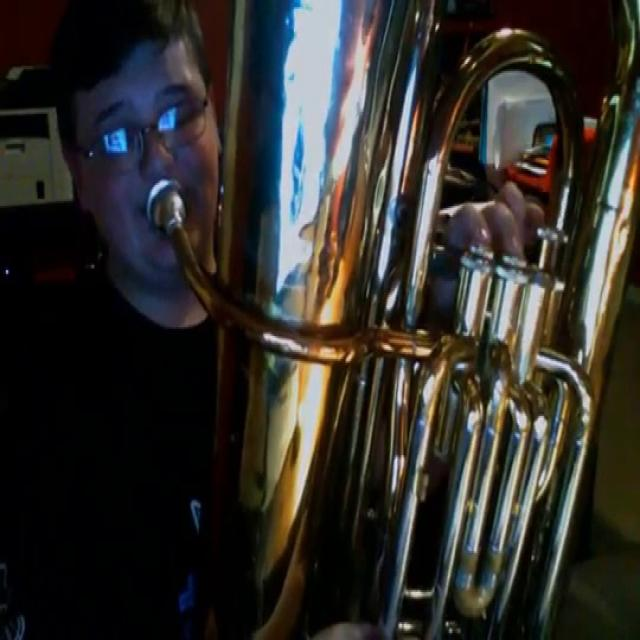Tuba: (153, 4, 640, 638)
